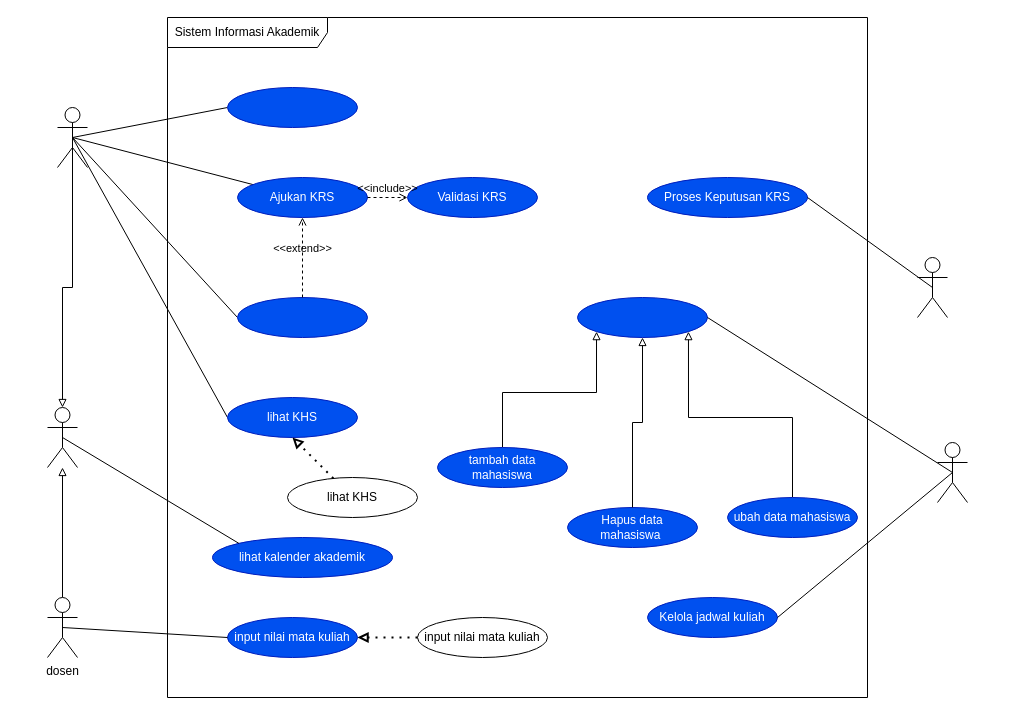
Image size: 1014x715. Some labels were removed from this diagram. The shapes that lost their labels are listed below. From the top down, each one's centre as x and y in pixels, then its label:
At point (292, 107): "Lihat jadwal kuliah".
At point (72, 137): "mahasiswa".
At point (932, 287): "dosen wali".
At point (302, 317): "Unduh bukti pengajuan KRS".
At point (642, 317): "kelola data mahasiswa".
At point (62, 437): "Civitas akademik".
At point (952, 472): "Admin akademik".
